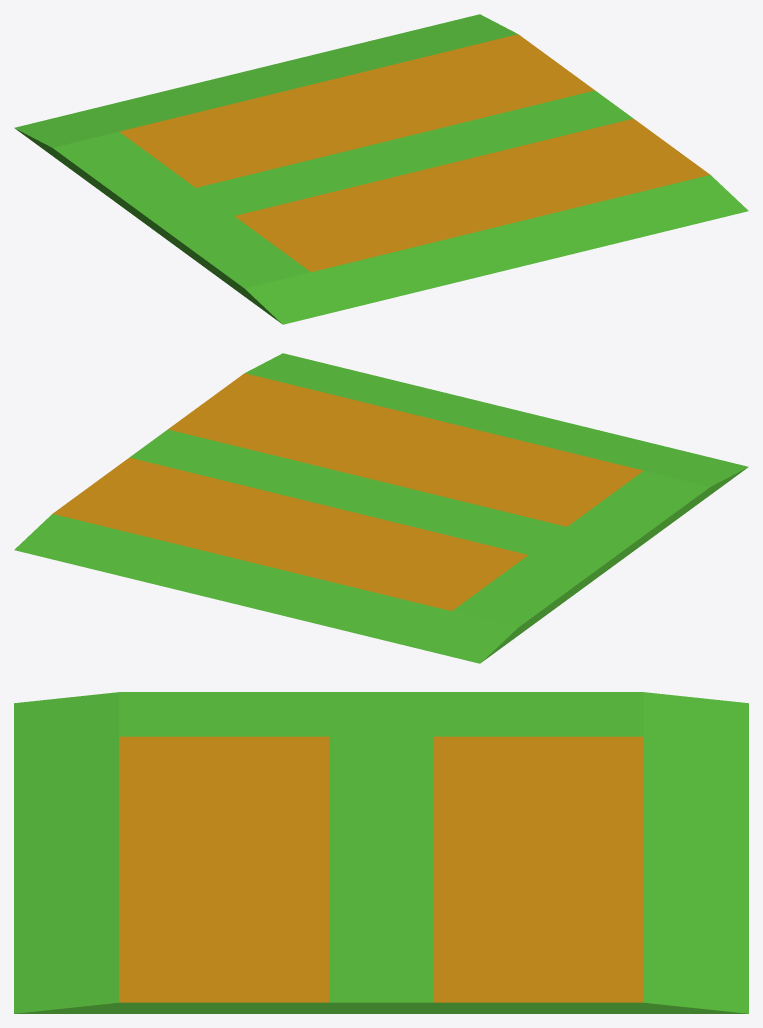
The model's file is Road End.fbx.
3 renders of one model, top to bottom at view 1: azimuth 30°, elevation 25°; view 2: azimuth 150°, elevation 25°; view 3: azimuth 270°, elevation 25°, orthographic. The views are drawn at different scales.
Parts seen in each view (by area): view 1: Road End; view 2: Road End; view 3: Road End.
Boxes of the visible parts, left/top/right/bottom form: Road End: left=14, top=14, right=748, bottom=324; Road End: left=14, top=353, right=748, bottom=663; Road End: left=14, top=692, right=748, bottom=1013.
Size of the model in its own units: 1200 by 20 by 1200.
